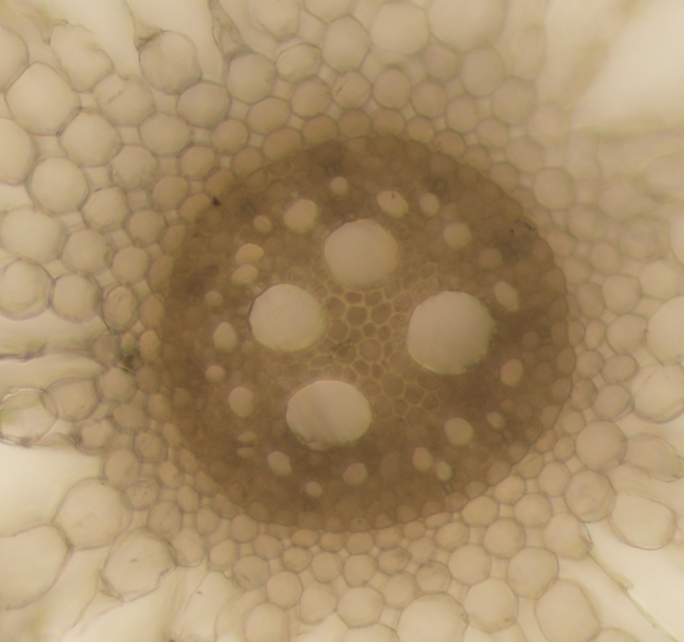lm: (405, 290, 496, 376), (284, 380, 373, 450), (248, 283, 329, 352), (322, 218, 399, 289)
